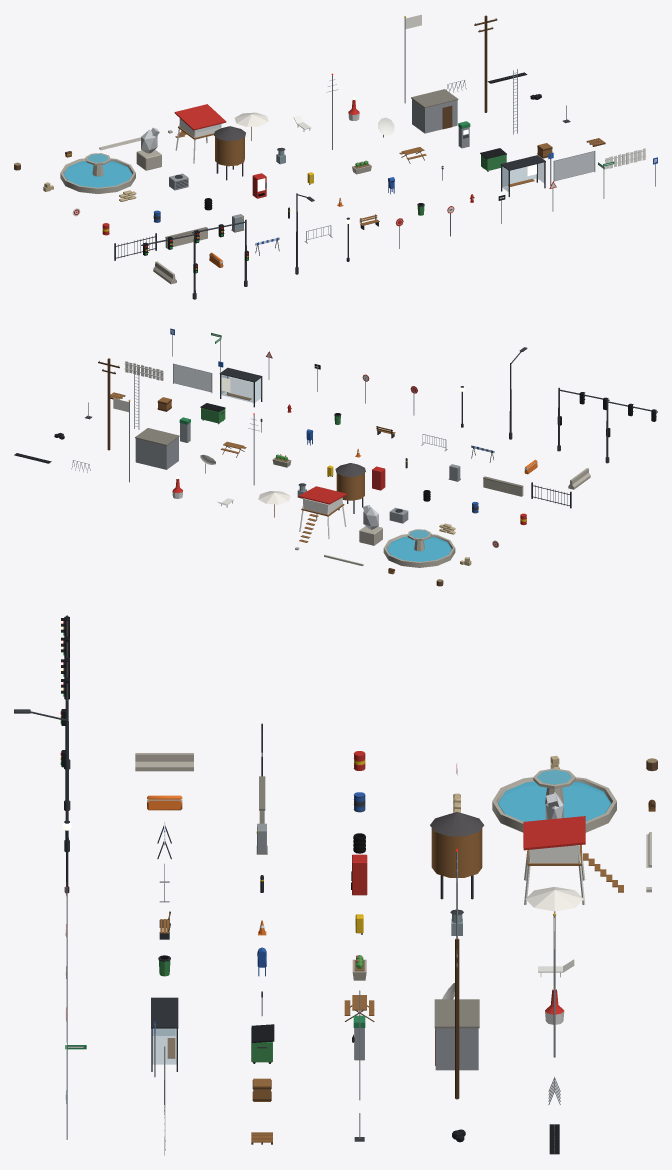
The model's file is kit_props.glb.
The picture shows the model from 3 angles, top to bottom: view 1: azimuth 30°, elevation 25°; view 2: azimuth 150°, elevation 25°; view 3: azimuth 270°, elevation 25°; orthographic projection. The views are drawn at different scales.
Visible parts, largest first — view 1: prop_fountain, prop_roof_stair, prop_lifeguard_tower, prop_bus_stop, prop_roof_tank, prop_fence_chain, prop_statue, prop_dumpster, prop_power_pole, prop_traffic_light_A, prop_fence_picket, prop_traffic_light_B; view 2: prop_fountain, prop_roof_stair, prop_lifeguard_tower, prop_bus_stop, prop_roof_tank, prop_fence_chain, prop_statue, prop_wall_low, prop_power_pole, prop_traffic_light_A, prop_dumpster, prop_fence_picket; view 3: prop_fountain, prop_lifeguard_tower, prop_roof_tank, prop_roof_stair, prop_bus_stop, prop_barrier_jersey, prop_umbrella, prop_dumpster, prop_power_pole.
Boxes of the visible parts, <box> form: prop_fountain: <box>60,153,135,193</box>; prop_roof_stair: <box>411,89,458,133</box>; prop_lifeguard_tower: <box>174,104,226,163</box>; prop_bus_stop: <box>500,152,553,196</box>; prop_roof_tank: <box>214,126,245,180</box>; prop_fence_chain: <box>553,151,595,181</box>; prop_statue: <box>136,127,161,170</box>; prop_dumpster: <box>480,148,506,171</box>; prop_power_pole: <box>474,15,497,112</box>; prop_traffic_light_A: <box>141,233,197,299</box>; prop_fence_picket: <box>605,148,645,168</box>; prop_traffic_light_B: <box>192,219,248,286</box>; prop_fountain: <box>383,529,455,567</box>; prop_roof_stair: <box>135,428,179,469</box>; prop_lifeguard_tower: <box>298,486,347,542</box>; prop_bus_stop: <box>218,361,262,407</box>; prop_roof_tank: <box>335,463,365,513</box>; prop_fence_chain: <box>173,363,212,392</box>; prop_statue: <box>359,505,382,545</box>; prop_wall_low: <box>483,476,523,496</box>; prop_power_pole: <box>98,358,119,450</box>; prop_traffic_light_A: <box>605,400,657,463</box>; prop_dumpster: <box>200,403,225,424</box>; prop_fence_picket: <box>124,361,163,380</box>; prop_fountain: <box>492,768,616,832</box>; prop_lifeguard_tower: <box>523,816,623,904</box>; prop_roof_tank: <box>430,812,484,899</box>; prop_roof_stair: <box>434,999,479,1070</box>; prop_bus_stop: <box>151,997,178,1077</box>; prop_barrier_jersey: <box>135,753,193,771</box>; prop_umbrella: <box>525,886,583,913</box>; prop_dumpster: <box>251,1024,274,1063</box>; prop_power_pole: <box>455,938,459,1099</box>.
Bounding box in the file's own units: 52.2 × 9.5 × 33.02.
